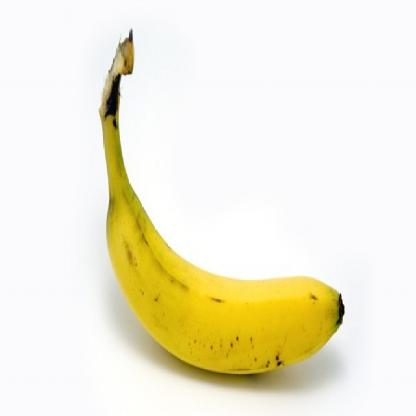banana: (98, 174, 350, 397)
